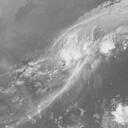cyclone: (50, 24, 99, 81)
